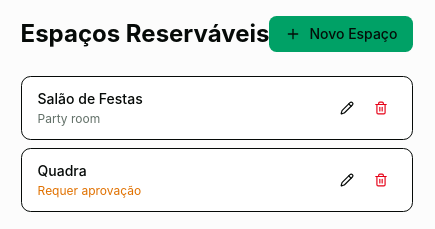
Test: ReservableSpacesPage › shows inline confirm when trash button is clicked
The image size is (435, 229).
Click the button with class "lucide-trash-2": (381, 108) [366,92,396,124]
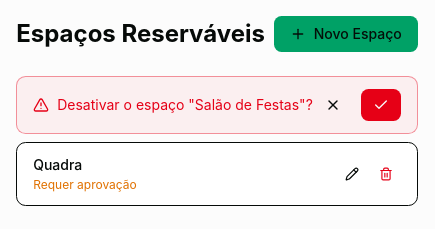
Now the text "Desativar o espaço \"Salão de Festas\"?" is shown, box [57,95,313,115]
